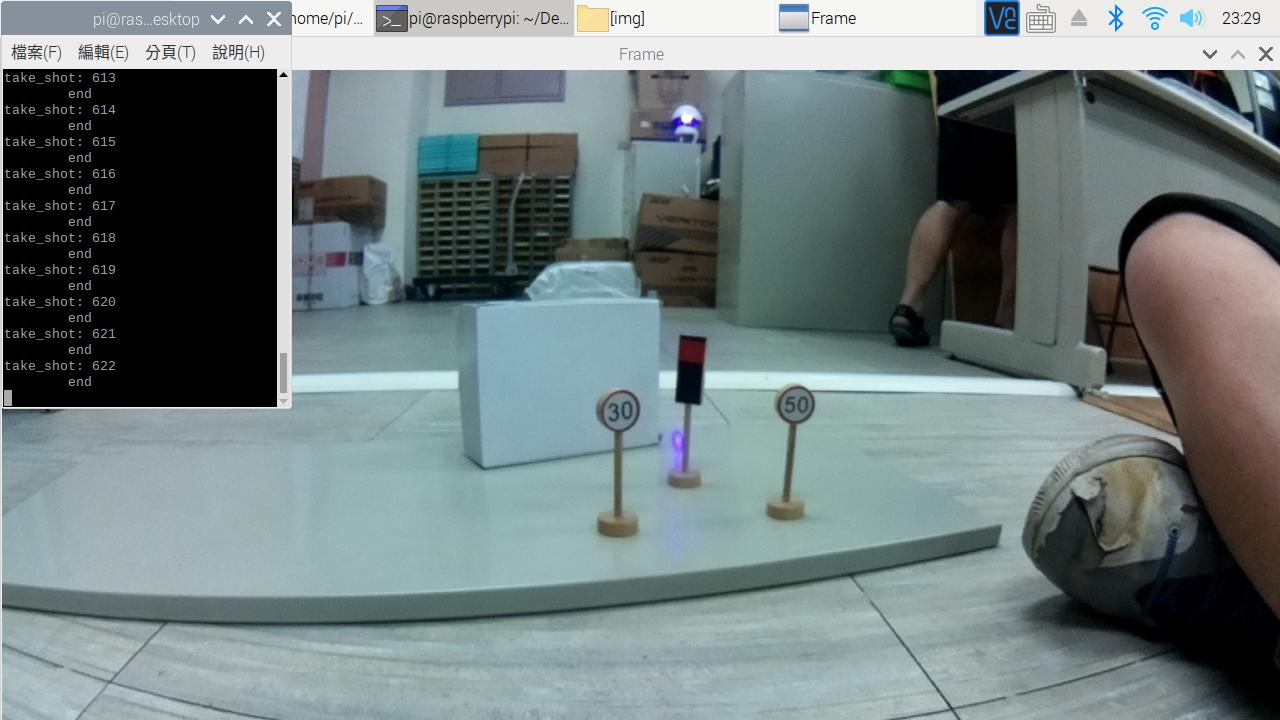Red: (672, 322, 714, 418)
Speed30: (587, 387, 650, 440)
Speed50: (763, 372, 829, 439)
